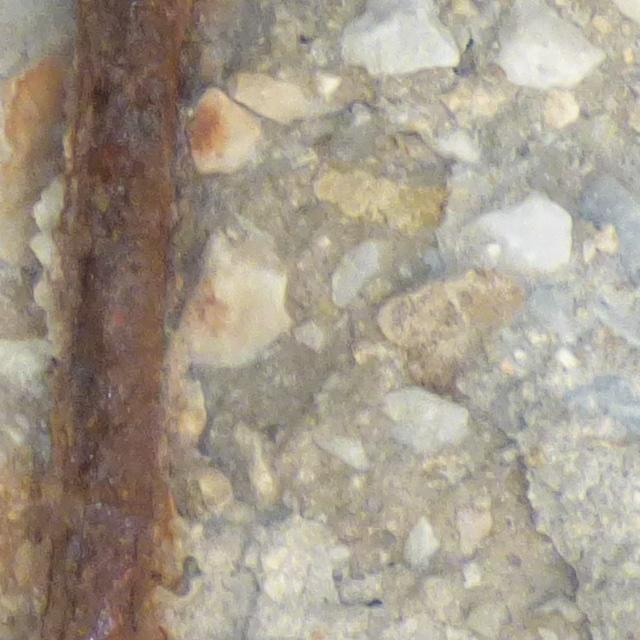Rust: (36, 2, 208, 636)
